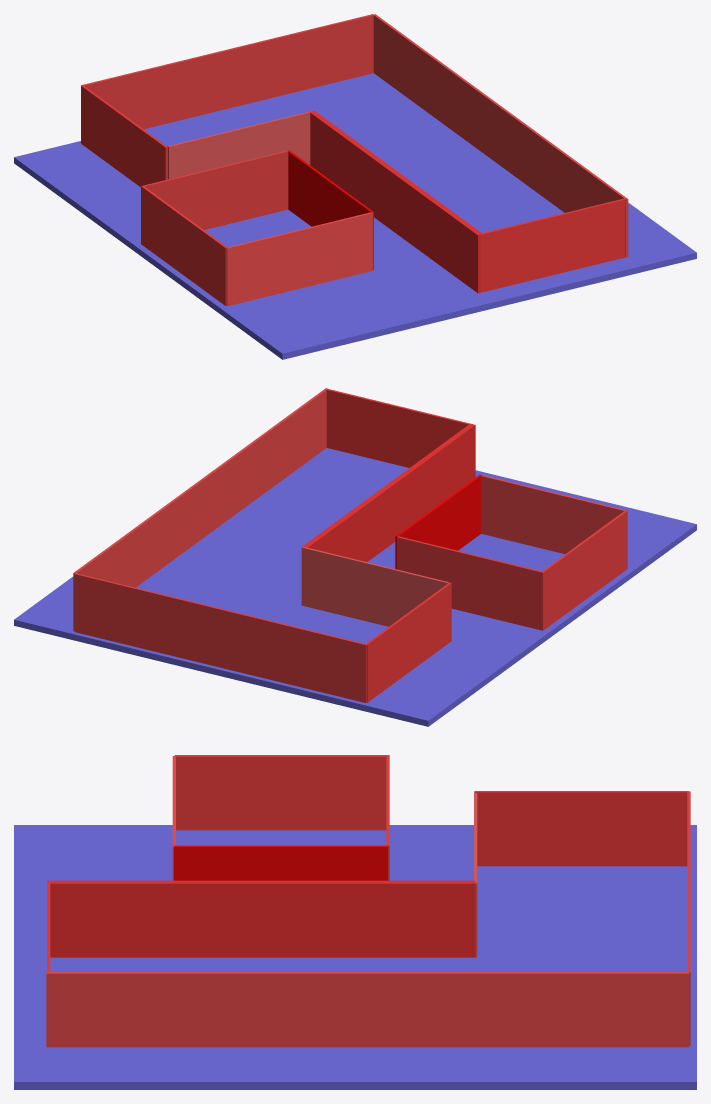
The model's file is rooms.gltf.
3 views of the same model, one above another, from view 1: azimuth 30°, elevation 25°; view 2: azimuth 150°, elevation 25°; view 3: azimuth 270°, elevation 25° (orthographic). The views are drawn at different scales.
Parts seen in each view (by area): view 1: Box_10, Box_6, Box_4, Box_7, Box_2, Box_5, Box_3, Box_1, Box_8, Box_9, Box; view 2: Box_10, Box_6, Box_4, Box_7, Box_3, Box_8, Box_2, Box_5, Box_9, Box_1, Box; view 3: Box_10, Box_4, Box_7, Box_9, Box_1, Box, Box_6, Box_8.
Part boxes in pixels (x1,y1,x2,y2): Box_10: [14, 73, 696, 359]; Box_6: [81, 14, 373, 142]; Box_4: [373, 14, 628, 257]; Box_7: [310, 111, 482, 293]; Box_2: [226, 212, 373, 306]; Box_5: [479, 198, 625, 292]; Box_3: [141, 150, 288, 243]; Box_1: [141, 186, 227, 305]; Box_8: [167, 110, 313, 179]; Box_9: [81, 86, 167, 187]; Box: [288, 150, 373, 270]; Box_10: [14, 448, 696, 726]; Box_6: [74, 573, 366, 702]; Box_4: [73, 388, 327, 631]; Box_7: [301, 424, 475, 561]; Box_3: [397, 536, 543, 630]; Box_8: [301, 546, 448, 626]; Box_2: [481, 475, 626, 553]; Box_5: [326, 389, 472, 467]; Box_9: [366, 582, 451, 702]; Box_1: [542, 510, 627, 630]; Box: [395, 474, 481, 569]; Box_10: [14, 825, 696, 1089]; Box_4: [46, 972, 688, 1047]; Box_7: [47, 880, 475, 957]; Box_9: [474, 791, 688, 866]; Box_1: [174, 755, 388, 830]; Box: [174, 845, 387, 880]; Box_6: [687, 791, 690, 1045]; Box_8: [474, 793, 477, 957].
Bounding box in the file's own units: 14.2 × 2.1 × 15.94.
